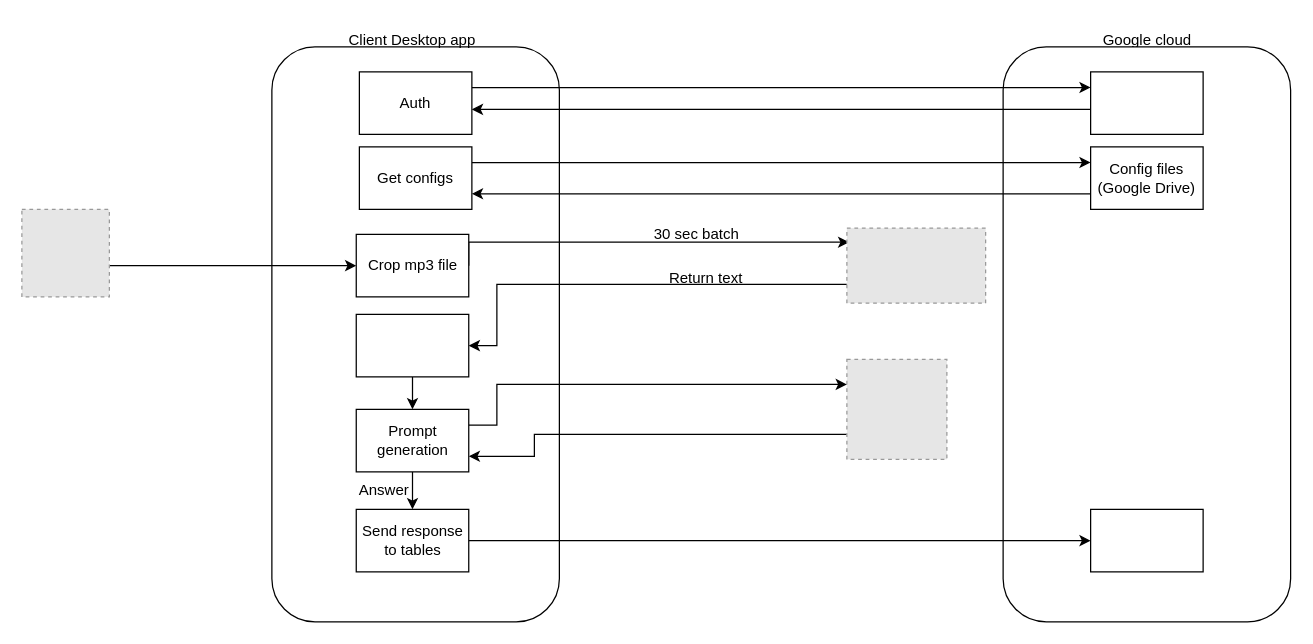
Image size: 1313x644. Some labels were removed from this diagram. Grey dashed boxes stand in for pictures. Each missing label, with the centre of its shape:
Accounts db (Excel tables): (x=1146, y=102)
Concat text: (x=412, y=345)
Result table (Google Tables): (x=1146, y=540)
